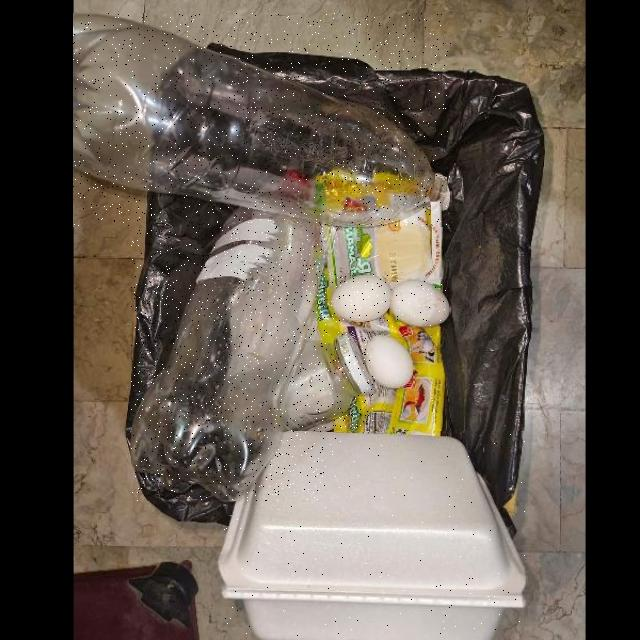biowaste: (331, 274, 393, 321), (391, 279, 450, 327), (364, 335, 414, 388)
glass: (282, 331, 375, 431)
plastic: (73, 13, 451, 227), (132, 206, 326, 501)
styrofoam: (218, 431, 527, 640)
